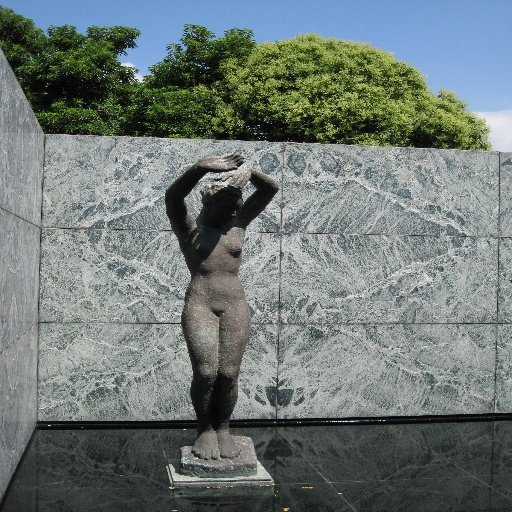hand: (200, 150, 243, 173), (210, 167, 252, 190)
